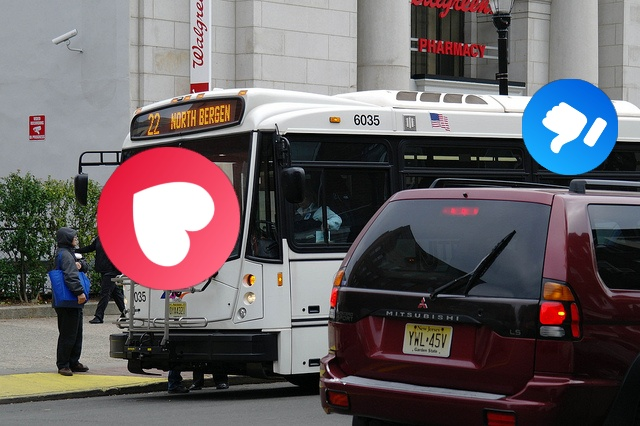like: (522, 79, 618, 175)
love: (97, 147, 240, 290)
